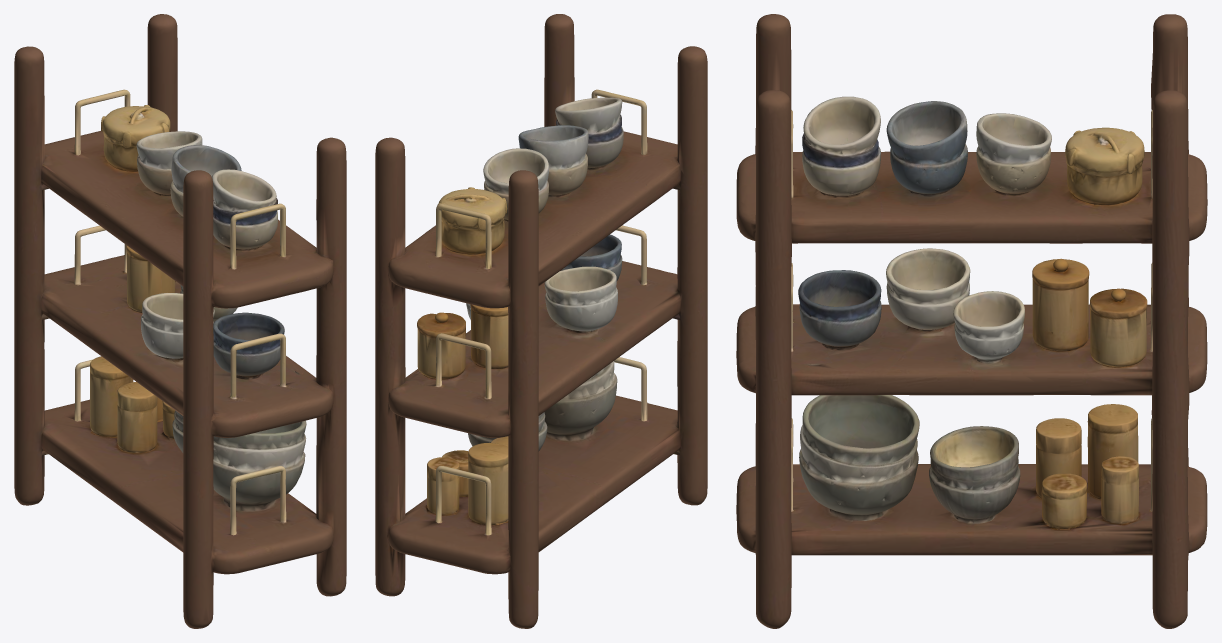
Rendered from JP_사물_s2_storage_rack_old.glb.
The picture shows the model from 3 angles, left to right: view 1: azimuth 30°, elevation 25°; view 2: azimuth 150°, elevation 25°; view 3: azimuth 270°, elevation 25°; orthographic projection. The views are drawn at different scales.
Parts seen in each view (by area): view 1: tripo_node_a863d916-fecb-4acf-b819-8b6c415975fd; view 2: tripo_node_a863d916-fecb-4acf-b819-8b6c415975fd; view 3: tripo_node_a863d916-fecb-4acf-b819-8b6c415975fd.
Part boxes in pixels (x1=…): tripo_node_a863d916-fecb-4acf-b819-8b6c415975fd: x1=14, y1=14, x2=346, y2=628; tripo_node_a863d916-fecb-4acf-b819-8b6c415975fd: x1=375, y1=14, x2=707, y2=628; tripo_node_a863d916-fecb-4acf-b819-8b6c415975fd: x1=736, y1=14, x2=1207, y2=628.
Size of the model in its own units: 0.3677 by 1 by 0.8015.
Materials: 1 (1 with a texture image).
